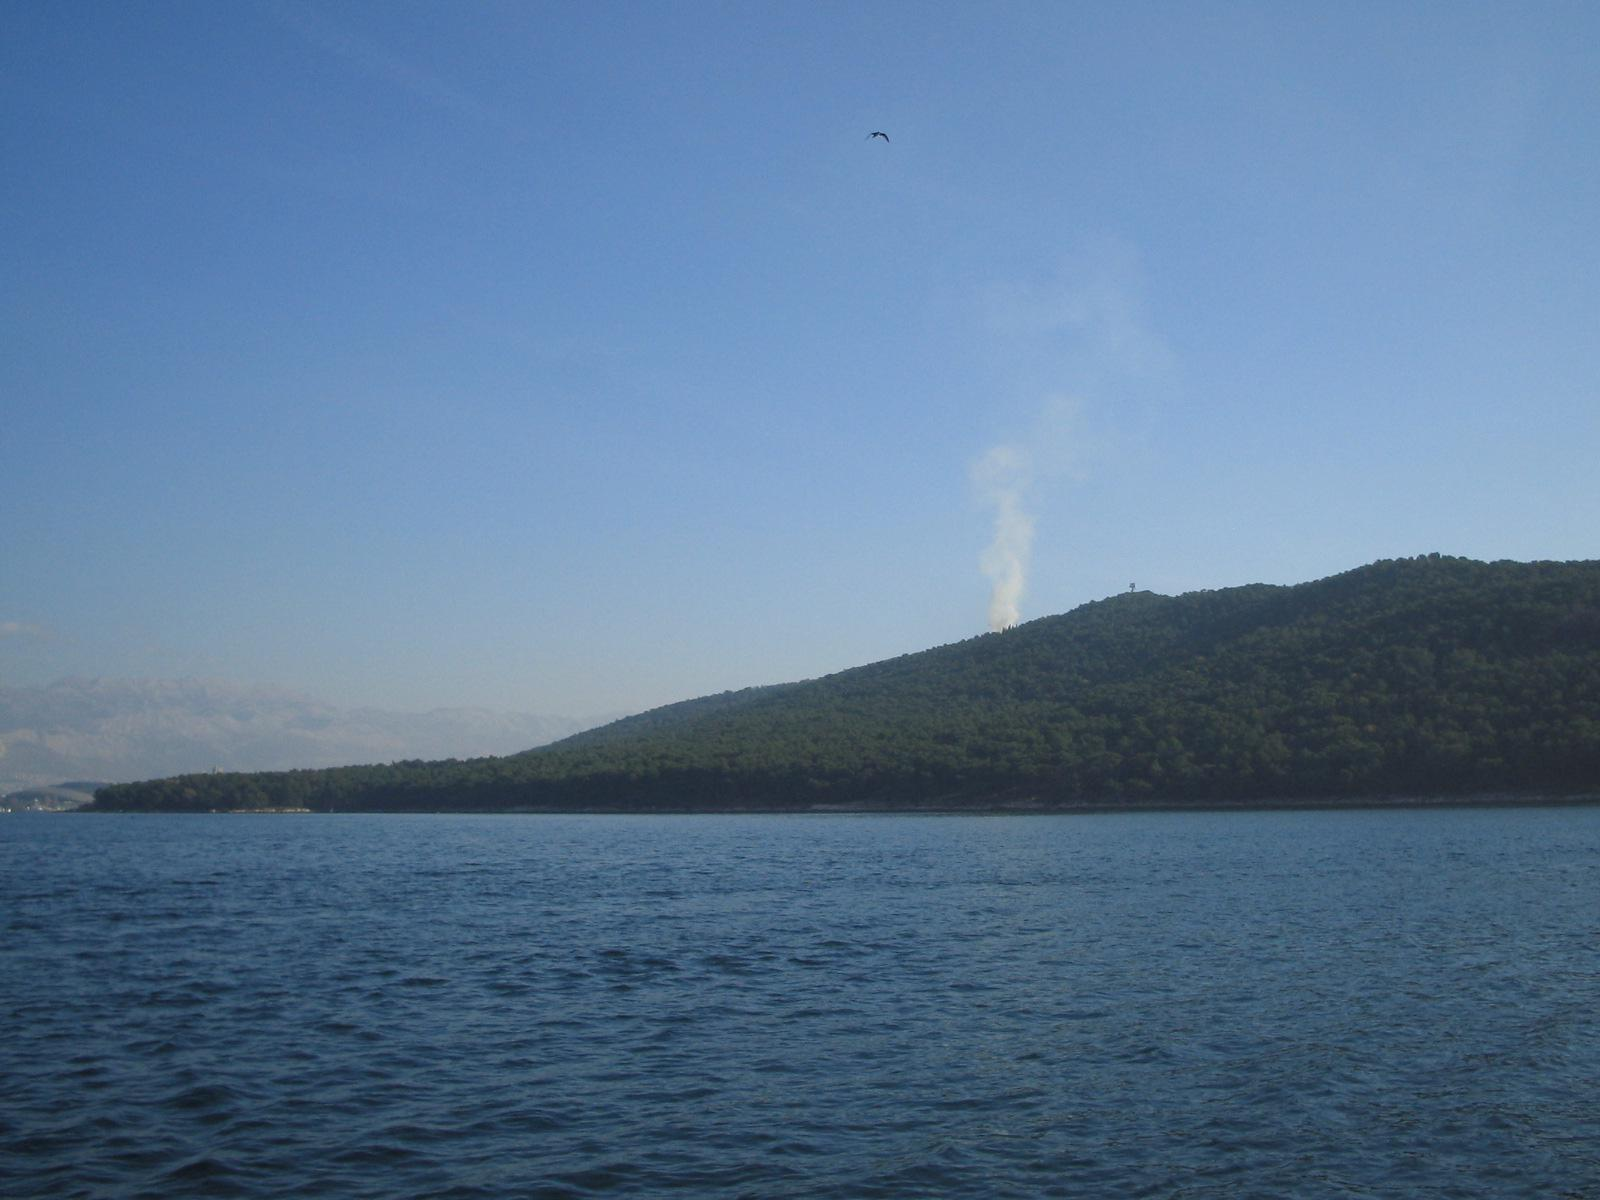Smoke: (947, 395, 1107, 640)
